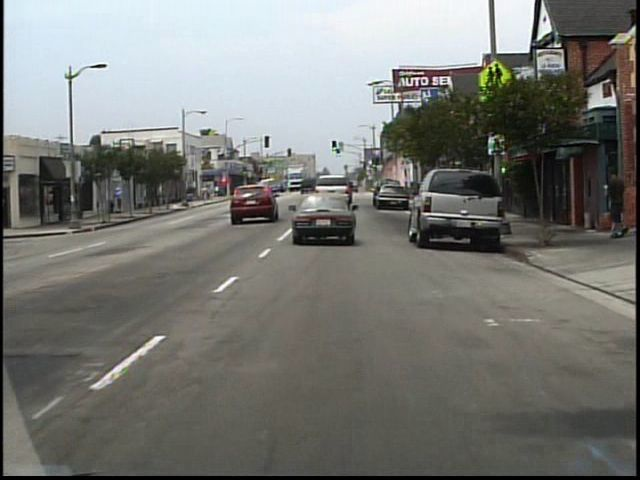person: (604, 166, 630, 239), (594, 170, 619, 234), (117, 186, 129, 214)
